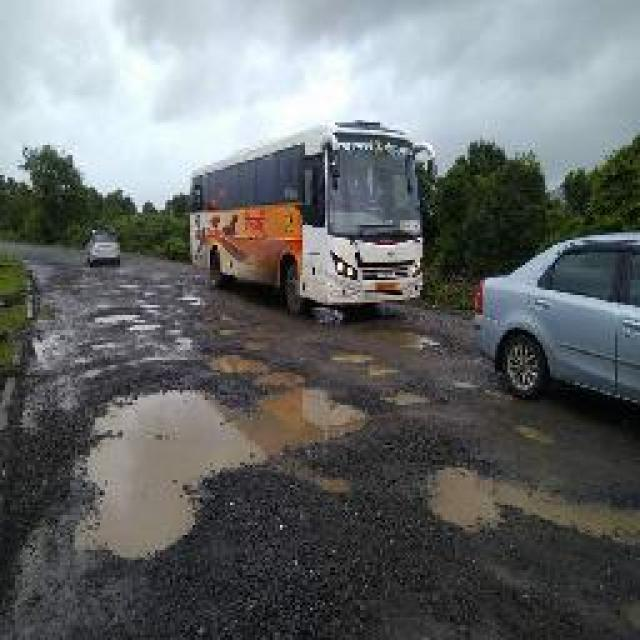puddle: (102, 380, 352, 561)
